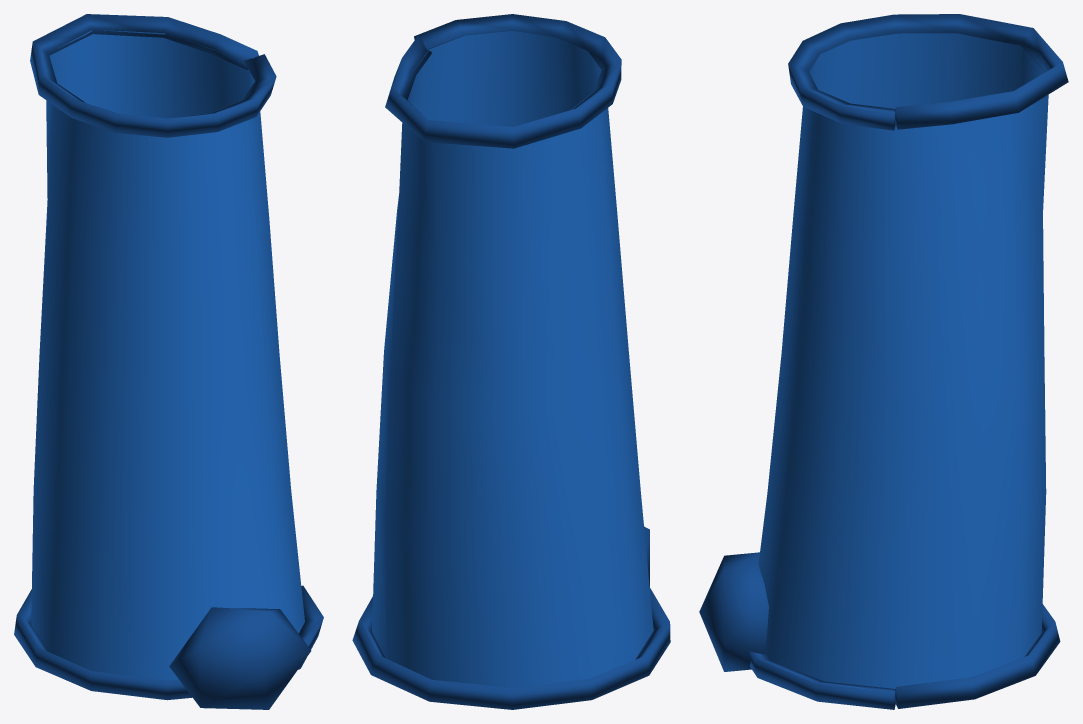
File: cobalt_armor_greave.L.glb
3 views of the same model, side by side, from view 1: azimuth 30°, elevation 25°; view 2: azimuth 150°, elevation 25°; view 3: azimuth 270°, elevation 25° (orthographic). The views are drawn at different scales.
Visible parts, largest first — view 1: cobalt_armor_greave.L; view 2: cobalt_armor_greave.L; view 3: cobalt_armor_greave.L.
Boxes of the visible parts, x1,y1,x2,y2 form: cobalt_armor_greave.L: (14, 14, 323, 709); cobalt_armor_greave.L: (352, 14, 670, 709); cobalt_armor_greave.L: (699, 14, 1068, 709).
Size of the model in its own units: 0.1942 by 0.4045 by 0.2254.
